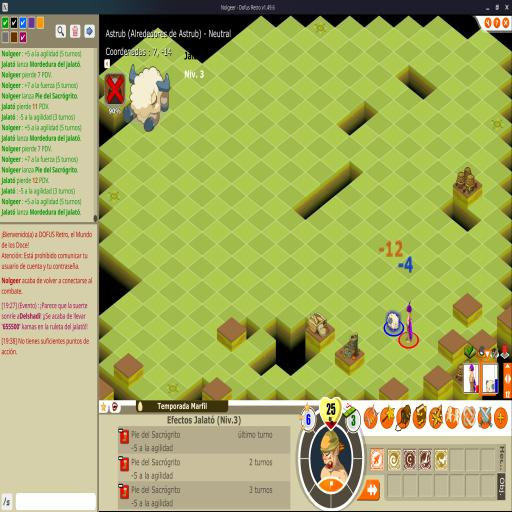Enemigos: (386, 311, 401, 332)
Personaje: (405, 301, 414, 343)
